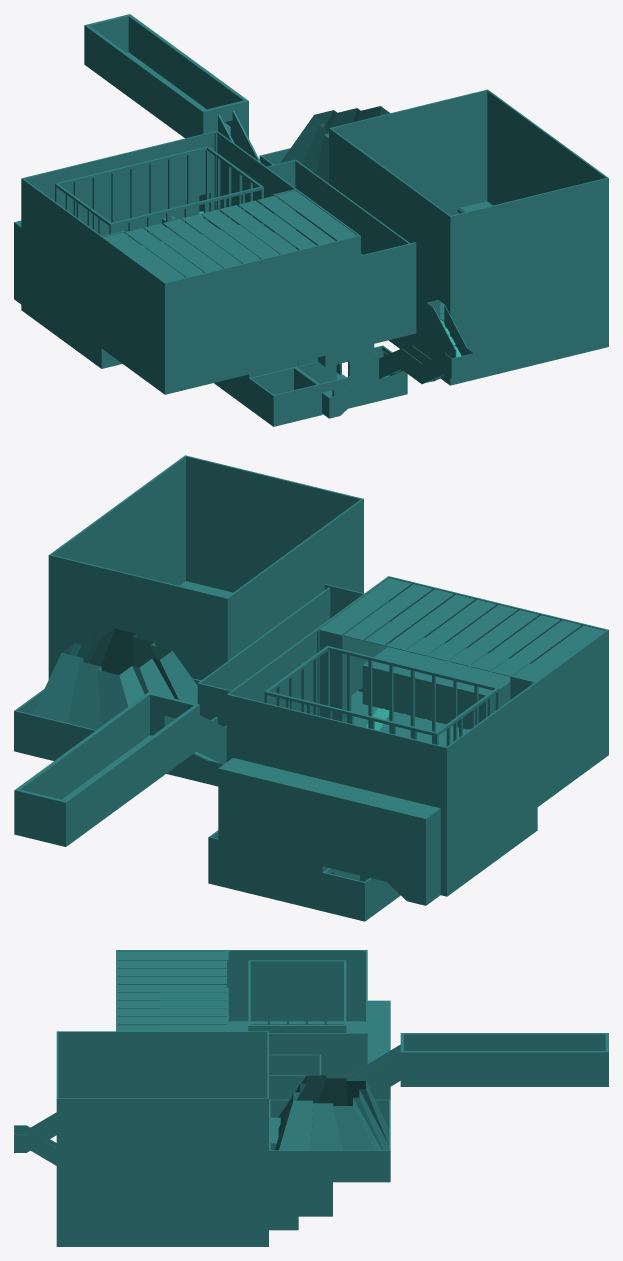
The model's file is space_hologram_map.glb.
The picture shows the model from 3 angles, top to bottom: view 1: azimuth 30°, elevation 25°; view 2: azimuth 150°, elevation 25°; view 3: azimuth 270°, elevation 25°; orthographic projection. The views are drawn at different scales.
Parts seen in each view (by area): view 1: MAP_WALL_MAIN, MAP_FLOOR_MAIN; view 2: MAP_WALL_MAIN, MAP_FLOOR_MAIN; view 3: MAP_WALL_MAIN, MAP_FLOOR_MAIN.
Boxes of the visible parts, bbox=[...] form: MAP_WALL_MAIN: bbox=[14, 14, 608, 426]; MAP_FLOOR_MAIN: bbox=[126, 52, 492, 397]; MAP_WALL_MAIN: bbox=[14, 455, 608, 921]; MAP_FLOOR_MAIN: bbox=[62, 581, 469, 800]; MAP_WALL_MAIN: bbox=[14, 950, 608, 1246]; MAP_FLOOR_MAIN: bbox=[228, 1021, 365, 1032].
Bounding box in the file's own units: 62.68 × 32.32 × 89.91.
